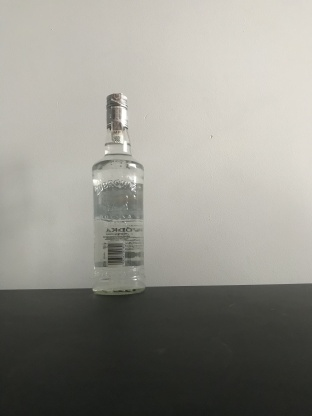nakretka: (104, 90, 130, 130)
